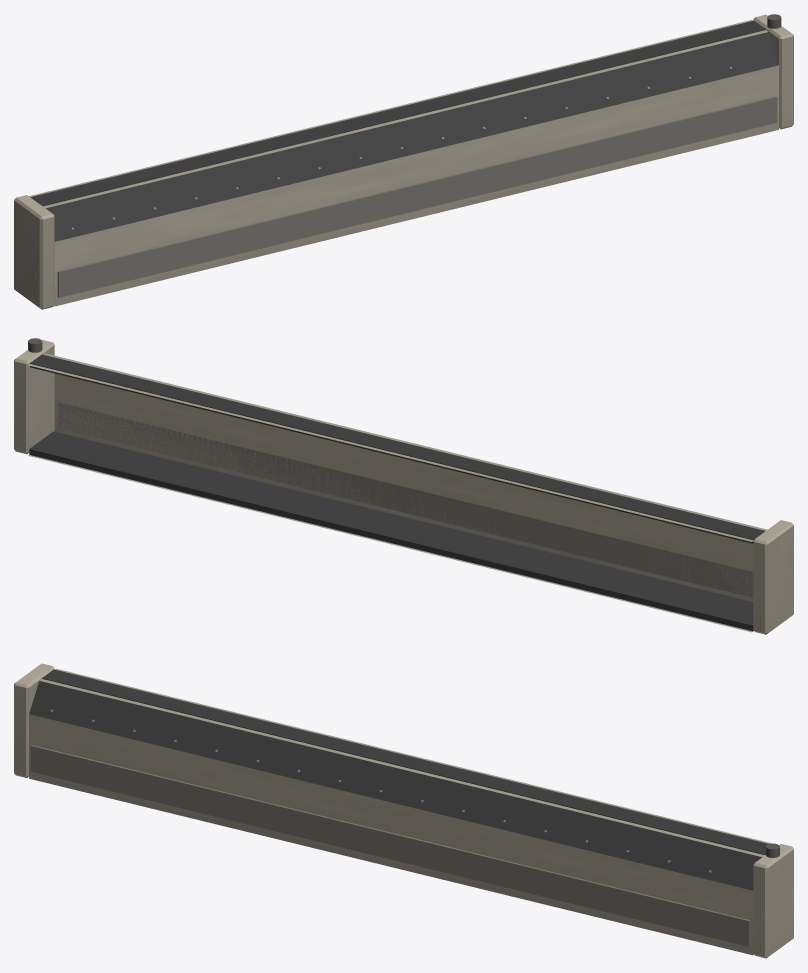
File: wall_heater.glb
The picture shows the model from 3 angles, top to bottom: view 1: azimuth 30°, elevation 25°; view 2: azimuth 150°, elevation 25°; view 3: azimuth 330°, elevation 25°; orthographic projection.
Parts seen in each view (by area): view 1: wall_heater; view 2: wall_heater; view 3: wall_heater.
Boxes of the visible parts, box(x1,y1,x2,y2) form: wall_heater: box(14, 14, 793, 309); wall_heater: box(14, 338, 793, 634); wall_heater: box(14, 663, 793, 958).
Bounding box in the file's own units: 1.1 × 0.142 × 0.071.
4 materials, 1 textured.
